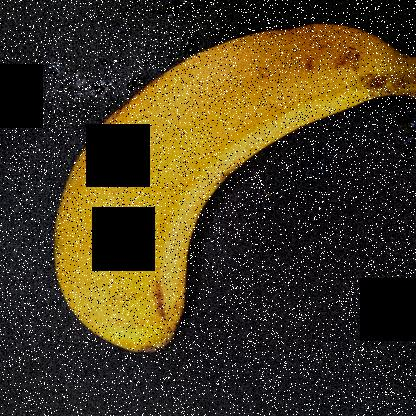freshripe: (20, 1, 416, 360)
